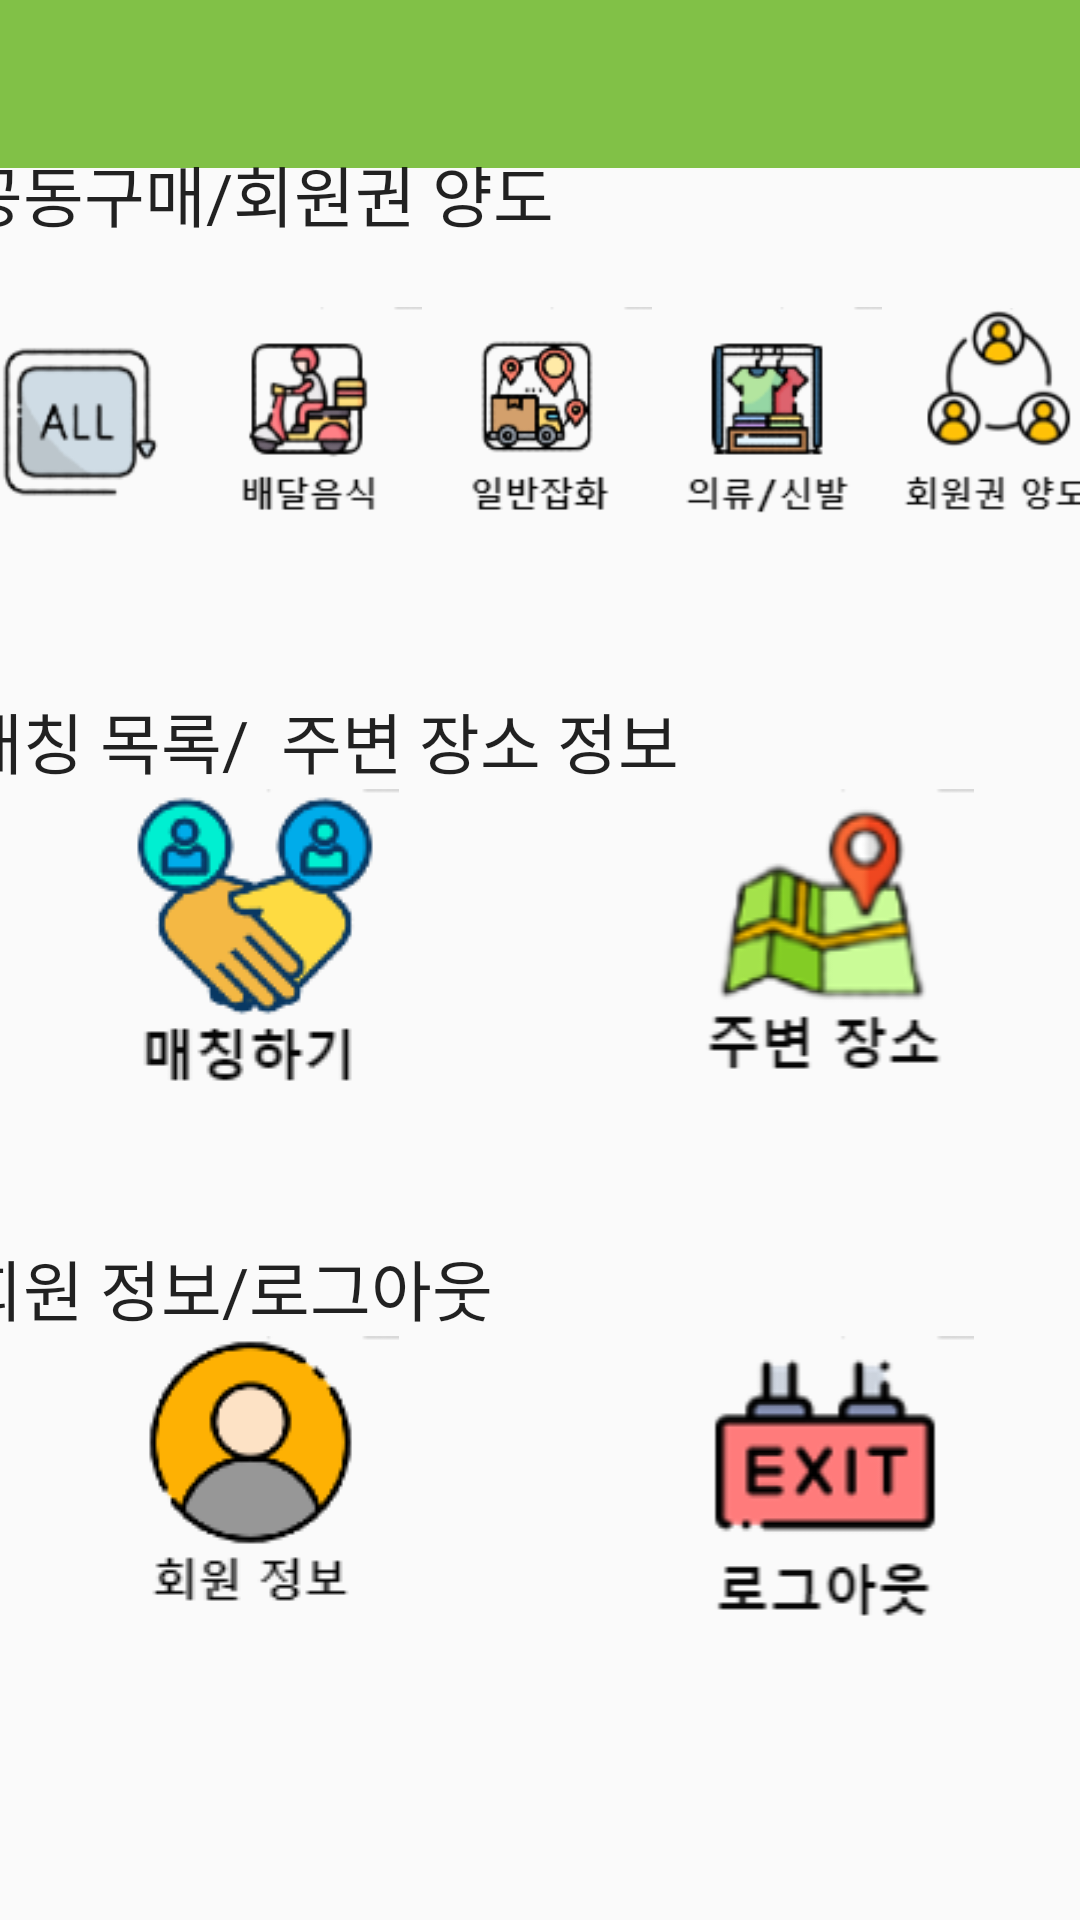

Where icons sit on this 1080×1920 app screen, as Rect(x1, y1, x2, y2):
map: Rect(708, 789, 974, 1069)
